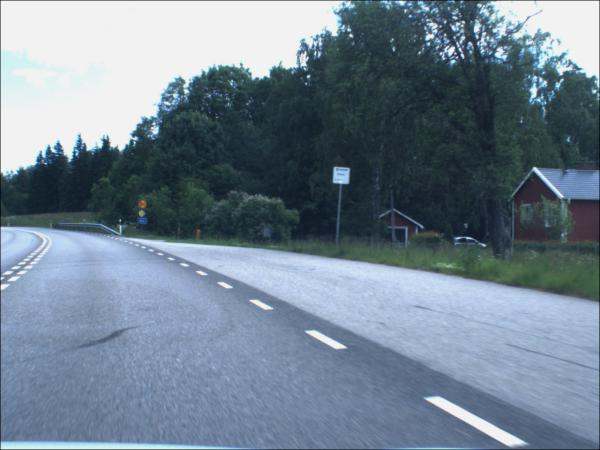80_SIGN: (139, 200, 149, 211)
PRIORITY_ROAD: (141, 211, 149, 219)
